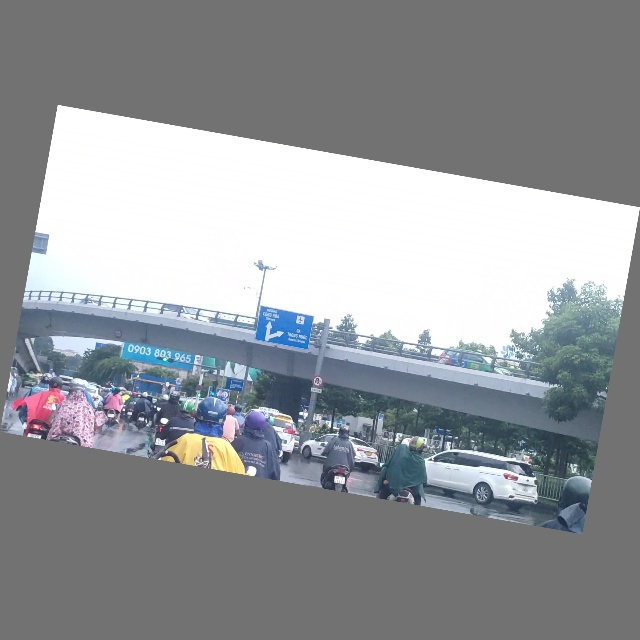P.124b1: (312, 376, 324, 390)
